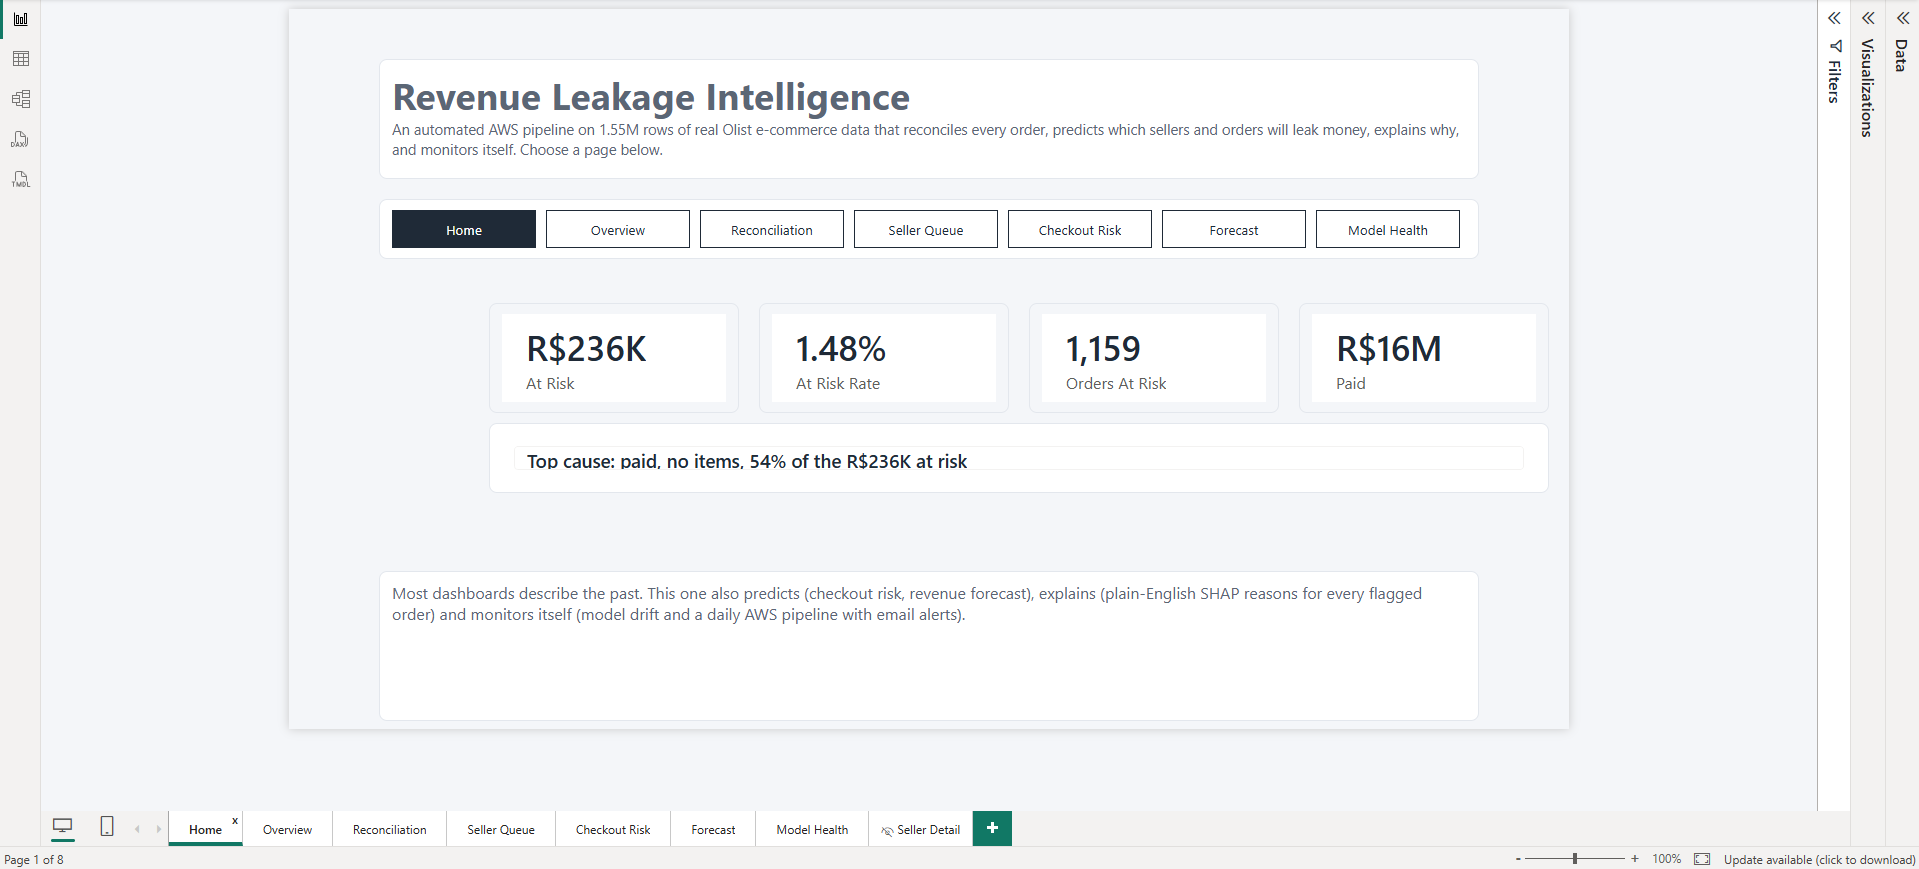

Layout of this report page (visuals, bound fields, positions):
{"tool":"powerbi","page":{"name":"Home","canvas":[1280,720],"ordinal":0},"visuals":[{"type":"textbox","box":[90,50,1100,120],"z":1},{"type":"pageNavigator","box":[90,190,1100,60],"z":2},{"type":"cardVisual","fields":{"Data":["_Measures.At Risk"]},"box":[200,294.4,250,110],"z":3},{"type":"cardVisual","fields":{"Data":["_Measures.At Risk Rate"]},"box":[470,294.4,250,110],"z":4},{"type":"cardVisual","fields":{"Data":["DimDate.Orders At Risk Text"]},"box":[740,294.4,250,110],"z":5},{"type":"cardVisual","fields":{"Data":["_Measures.Paid"]},"box":[1010,294.4,250,110],"z":6},{"type":"cardVisual","fields":{"Data":["_Measures.Insight"]},"box":[200,414.4,1060,70],"z":7},{"type":"textbox","box":[90,562,1100,150],"z":8}]}

Visuals, with their boxes on the page's 1280x720 design canvas (x1, y1, x2, y2). These are canvas units, not pixel positions in the 1919x869 screenshot, which may show the page scaled, cropped or inside an application window:
textbox: left=90, top=50, right=1190, bottom=170
pageNavigator: left=90, top=190, right=1190, bottom=250
cardVisual - _Measures.At Risk: left=200, top=294, right=450, bottom=404
cardVisual - _Measures.At Risk Rate: left=470, top=294, right=720, bottom=404
cardVisual - DimDate.Orders At Risk Text: left=740, top=294, right=990, bottom=404
cardVisual - _Measures.Paid: left=1010, top=294, right=1260, bottom=404
cardVisual - _Measures.Insight: left=200, top=414, right=1260, bottom=484
textbox: left=90, top=562, right=1190, bottom=712
